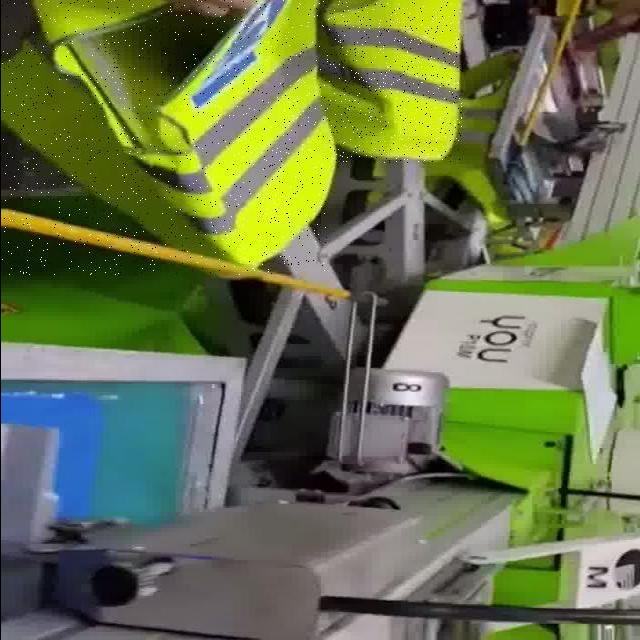vest: (0, 0, 326, 275), (319, 1, 461, 163)
